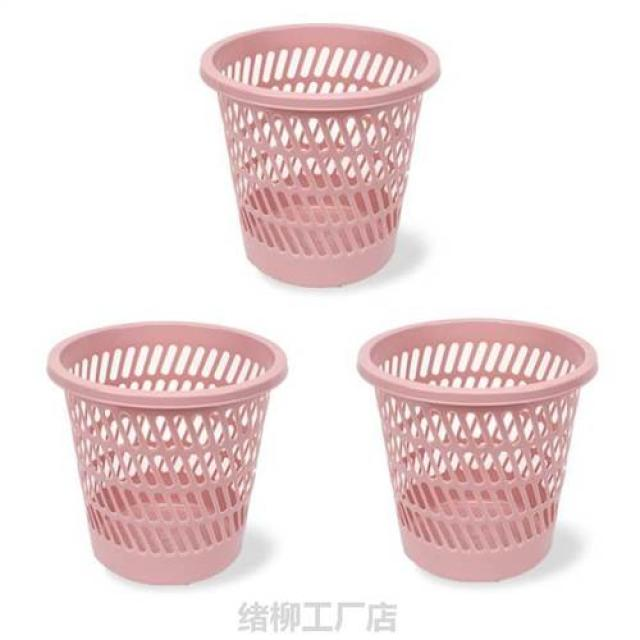dustbin: (350, 311, 604, 588), (43, 312, 293, 591), (197, 16, 446, 290)
